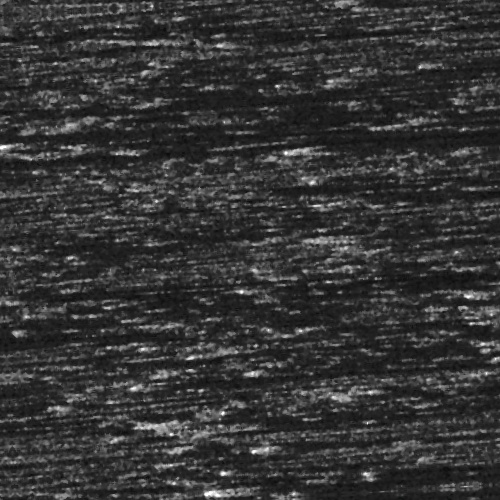object: (265, 196, 358, 217), (337, 126, 482, 137), (373, 439, 446, 452), (102, 372, 175, 381), (124, 412, 207, 419), (227, 441, 310, 448), (128, 91, 181, 98), (215, 190, 278, 195), (188, 483, 251, 488), (0, 97, 33, 106), (296, 238, 349, 243), (0, 279, 29, 284), (286, 148, 327, 151)
shadow: (0, 102, 266, 137), (312, 196, 500, 217), (0, 97, 307, 106), (138, 372, 314, 381), (166, 412, 345, 419), (3, 279, 253, 284), (410, 439, 500, 452), (155, 91, 321, 98), (0, 145, 160, 152), (410, 126, 500, 137), (247, 190, 418, 195), (269, 441, 360, 448), (220, 483, 309, 488), (323, 238, 411, 243), (307, 148, 393, 151), (0, 486, 53, 489)
